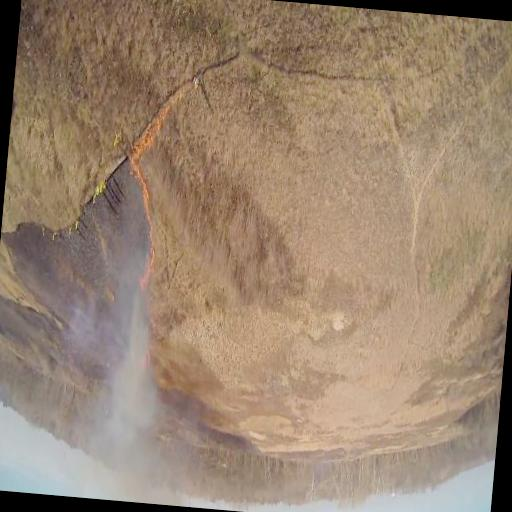fire: (113, 107, 177, 379)
smoke: (89, 223, 176, 428)
